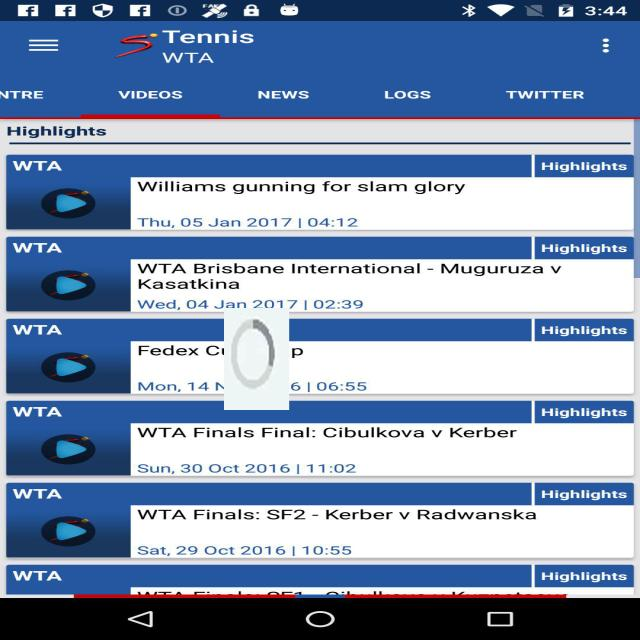misdirection: (224, 308, 289, 410)
